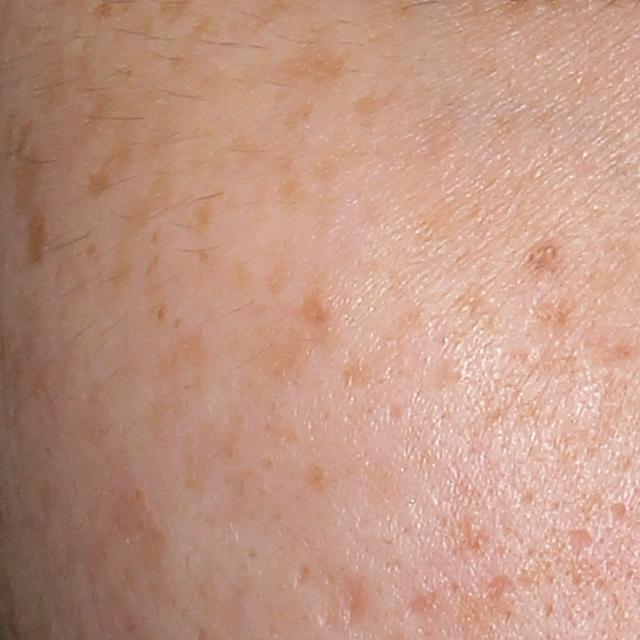atrophic_scar: (315, 563, 373, 634), (399, 592, 441, 629), (560, 523, 597, 561), (485, 576, 512, 600), (294, 563, 313, 591)
melasma: (106, 164, 179, 293), (275, 11, 357, 90), (9, 130, 50, 217), (142, 225, 175, 333), (525, 295, 582, 336), (27, 206, 54, 267), (180, 12, 216, 48), (290, 93, 318, 133), (12, 116, 35, 162), (187, 200, 214, 238)
